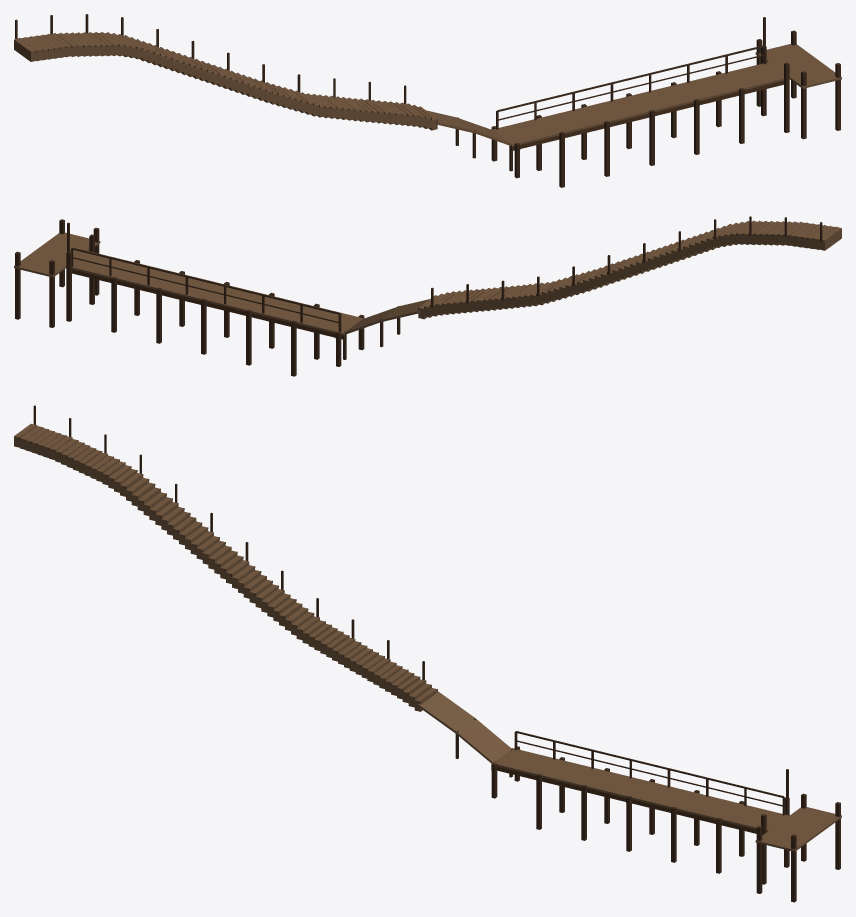
The model's file is SM_WillowPond_Jetty.fbx.
The picture shows the model from 3 angles, top to bottom: view 1: azimuth 30°, elevation 25°; view 2: azimuth 150°, elevation 25°; view 3: azimuth 330°, elevation 25°; orthographic projection.
Parts seen in each view (by area): view 1: SM_WillowPond_Jetty; view 2: SM_WillowPond_Jetty; view 3: SM_WillowPond_Jetty.
Boxes of the visible parts, <box> form: SM_WillowPond_Jetty: <box>14,14,841,187</box>; SM_WillowPond_Jetty: <box>14,216,841,376</box>; SM_WillowPond_Jetty: <box>14,405,841,902</box>.
Bounding box in the file's own units: 48.76 × 16.36 × 5.
